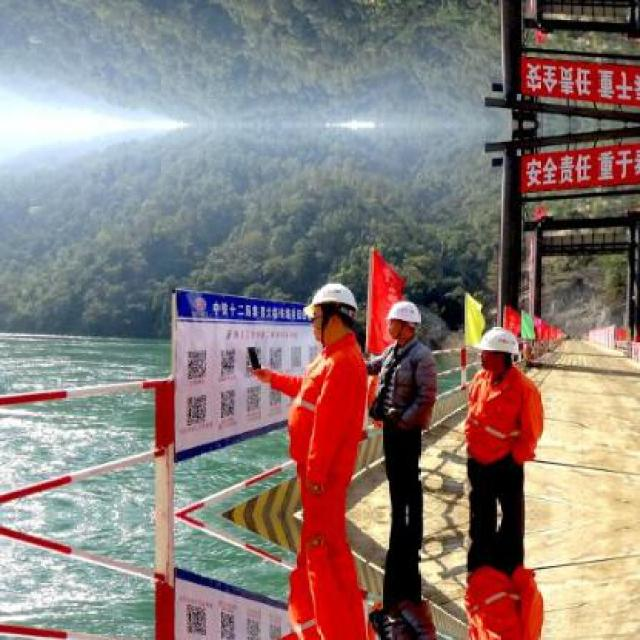helmet: (301, 277, 364, 351), (476, 325, 518, 374), (384, 298, 422, 342)
